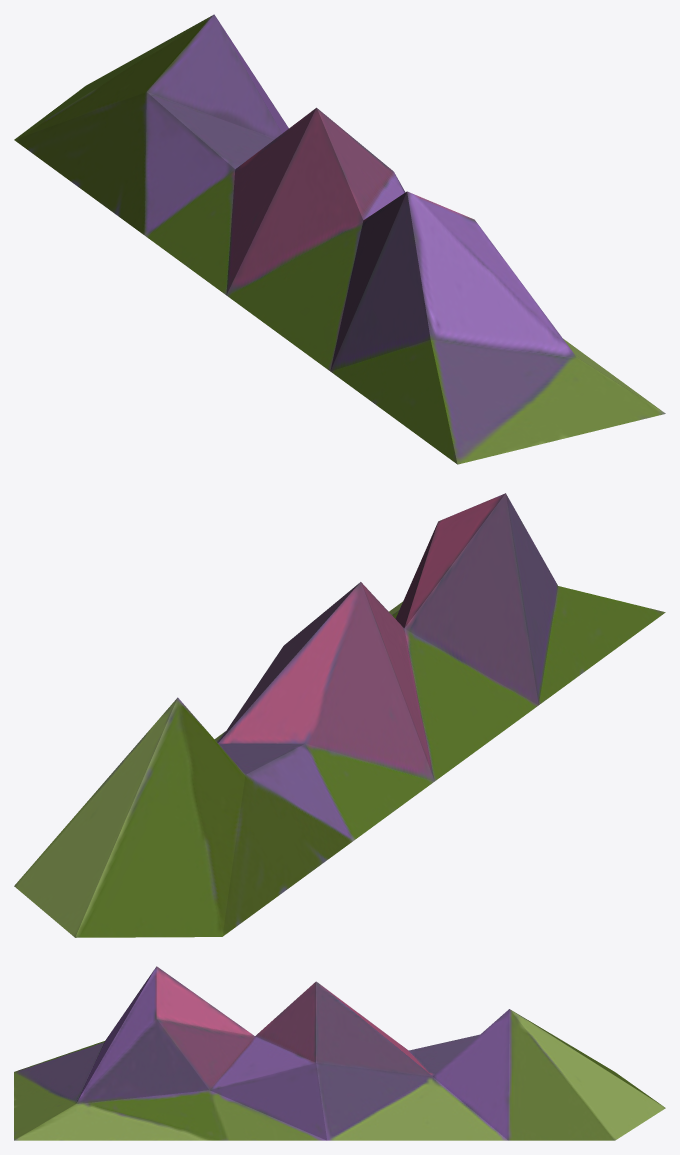
Rendered from wall_straight_deco1.fbx.
3 renders of one model, top to bottom at view 1: azimuth 30°, elevation 25°; view 2: azimuth 150°, elevation 25°; view 3: azimuth 270°, elevation 25°, orthographic. The views are drawn at different scales.
Visible parts, largest first — view 1: wall_straight_deco1; view 2: wall_straight_deco1; view 3: wall_straight_deco1.
Part boxes in pixels (<box>): wall_straight_deco1: <box>14,14,665,464</box>; wall_straight_deco1: <box>14,493,665,937</box>; wall_straight_deco1: <box>14,966,665,1140</box>.
Bounding box in the file's own units: 0.01 × 0.00838 × 0.04.
